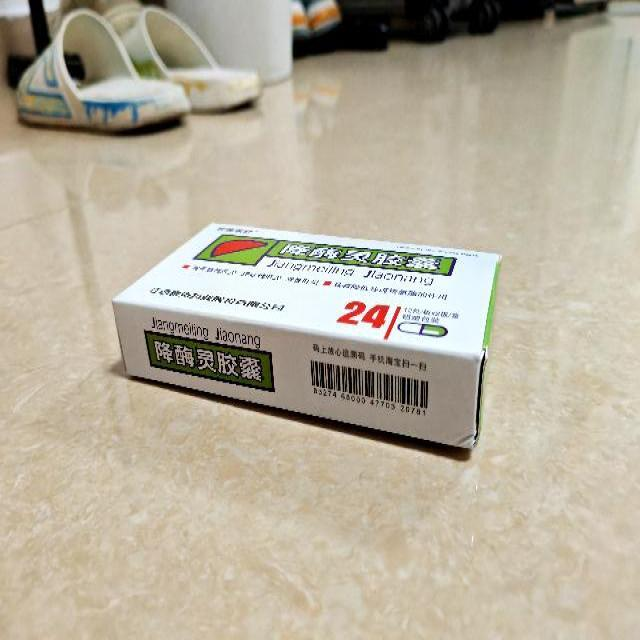box: (114, 222, 502, 453)
